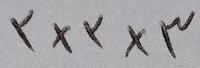character: (160, 10, 195, 57), (11, 9, 35, 54), (125, 25, 148, 59), (83, 14, 105, 49), (52, 23, 74, 53)
